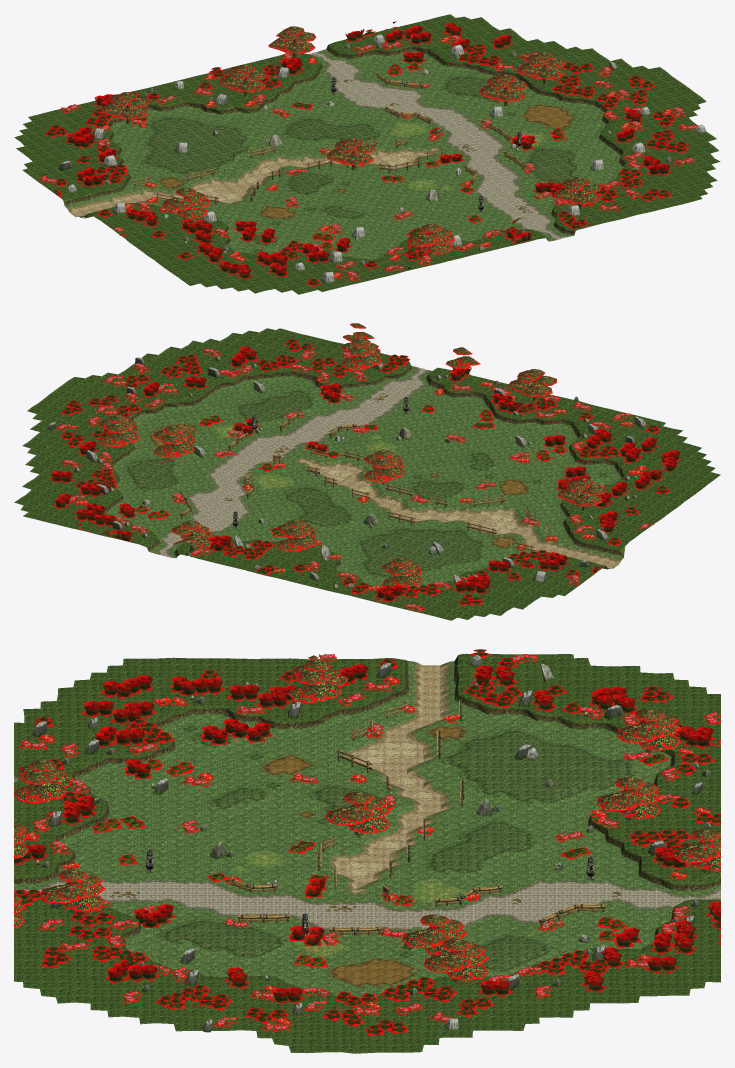
Rendered from MilchMainRoad2.obj.
3 views of the same model, one above another, from view 1: azimuth 30°, elevation 25°; view 2: azimuth 150°, elevation 25°; view 3: azimuth 270°, elevation 25° (orthographic). The views are drawn at different scales.
Visible parts, largest first — view 1: Object.006; view 2: Object.006; view 3: Object.006.
Part boxes in pixels (x1,y1,x2,y2): Object.006: [14, 14, 720, 294]; Object.006: [14, 323, 720, 620]; Object.006: [14, 649, 720, 1053].
Size of the model in its own units: 113 by 7.35 by 84.97.
18 materials, 18 textured.
